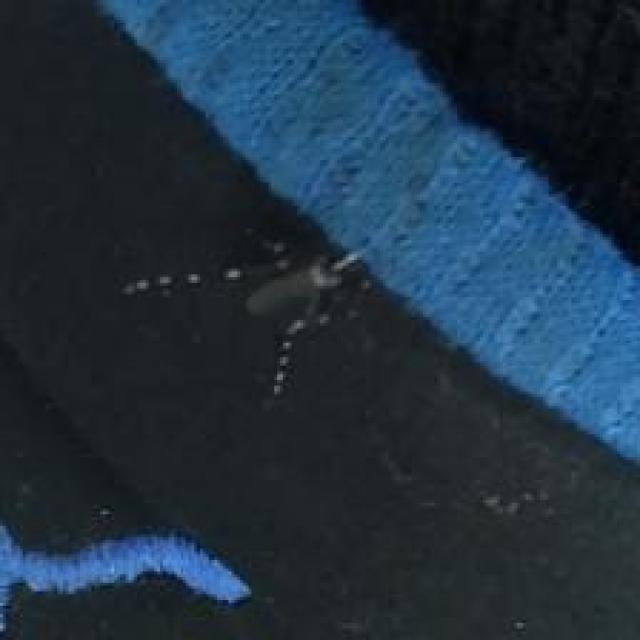Aedes albopictus: (0, 510, 251, 638)
